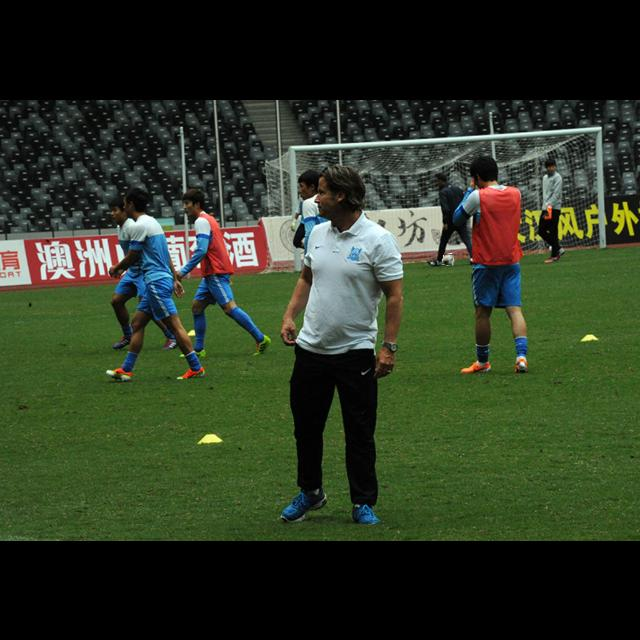Football: (442, 254, 454, 266)
